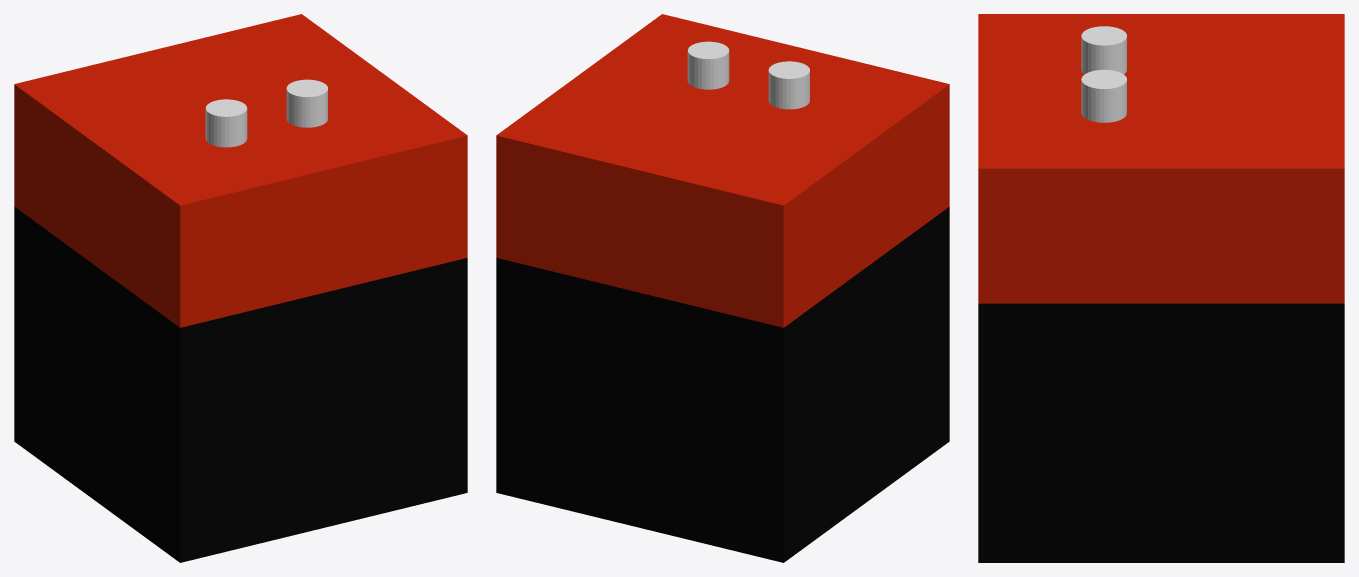
3 views of the same model, side by side, from view 1: azimuth 30°, elevation 25°; view 2: azimuth 150°, elevation 25°; view 3: azimuth 270°, elevation 25° (orthographic). The views are drawn at different scales.
Visible parts, largest first — view 1: Camera_unten, Camera_oben, Bohrung2, Bohrung1; view 2: Camera_unten, Camera_oben, Bohrung1, Bohrung2; view 3: Camera_oben, Camera_unten, Bohrung1, Bohrung2.
Part boxes in pixels (x1,y1,x2,y2): Camera_unten: (14, 207, 467, 562); Camera_oben: (14, 14, 467, 327); Bohrung2: (205, 99, 247, 147); Bohrung1: (286, 79, 327, 127); Camera_unten: (496, 207, 949, 562); Camera_oben: (496, 14, 949, 327); Bohrung1: (687, 41, 729, 89); Bohrung2: (768, 61, 809, 109); Camera_oben: (978, 14, 1344, 303); Camera_unten: (978, 303, 1344, 562); Bohrung1: (1081, 69, 1126, 122); Bohrung2: (1081, 26, 1126, 74).
Bounding box in the file's own units: 0.064 × 0.064 × 0.0826.
